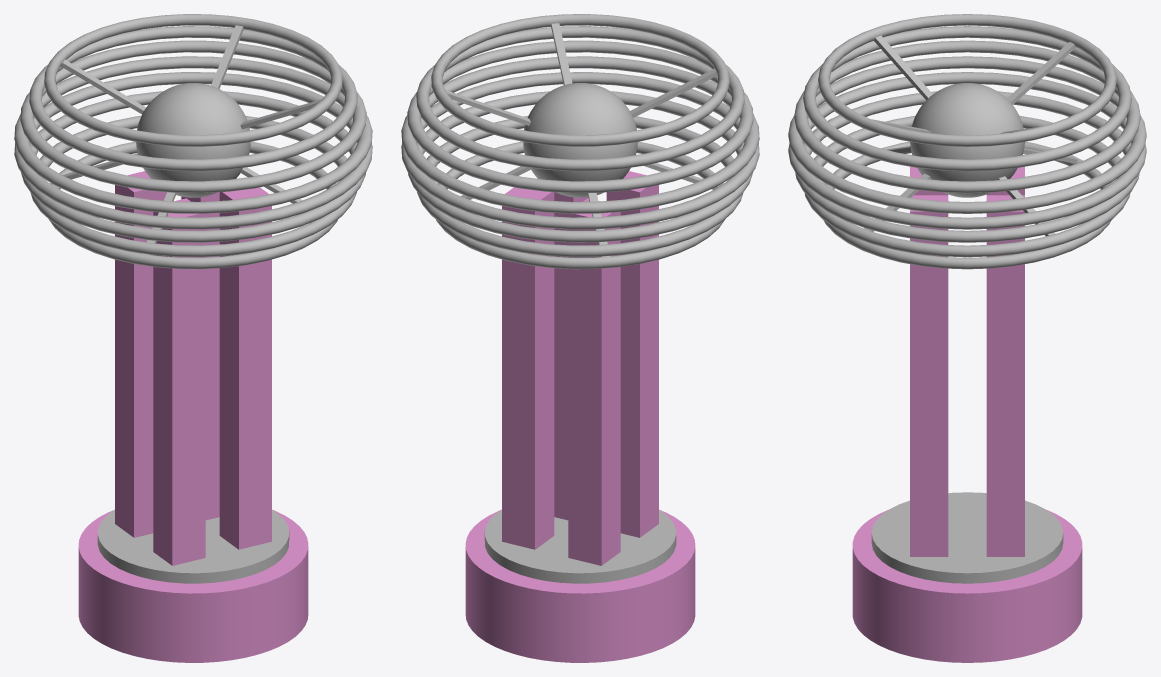
File: MagnetaTowerModel.fbx
3 renders of one model, left to right at view 1: azimuth 30°, elevation 25°; view 2: azimuth 150°, elevation 25°; view 3: azimuth 270°, elevation 25°, orthographic.
Visible parts, largest first — view 1: polySurface3; view 2: polySurface3; view 3: polySurface3.
Boxes of the visible parts, <box> form: polySurface3: <box>14,14,372,662</box>; polySurface3: <box>401,14,759,662</box>; polySurface3: <box>788,14,1146,662</box>.
Bounding box in the file's own units: 9.36 × 15.53 × 9.36.
